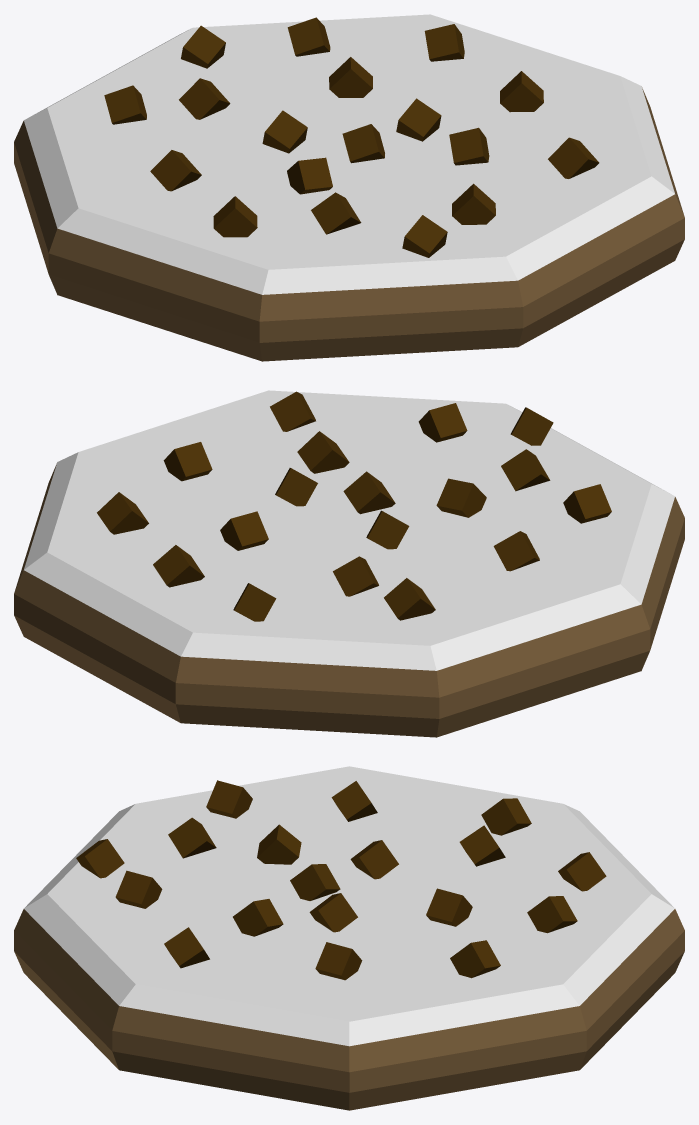
The model's file is C_Cookie_1.fbx.
3 views of the same model, one above another, from view 1: azimuth 30°, elevation 25°; view 2: azimuth 150°, elevation 25°; view 3: azimuth 270°, elevation 25° (orthographic). The views are drawn at different scales.
Parts seen in each view (by area): view 1: C_Cookie_1; view 2: C_Cookie_1; view 3: C_Cookie_1.
Part boxes in pixels (x1,y1,x2,y2): C_Cookie_1: (14,14,684,361); C_Cookie_1: (14,390,684,737); C_Cookie_1: (14,766,684,1110).
Size of the model in its own units: 64.38 by 64.38 by 12.66.
